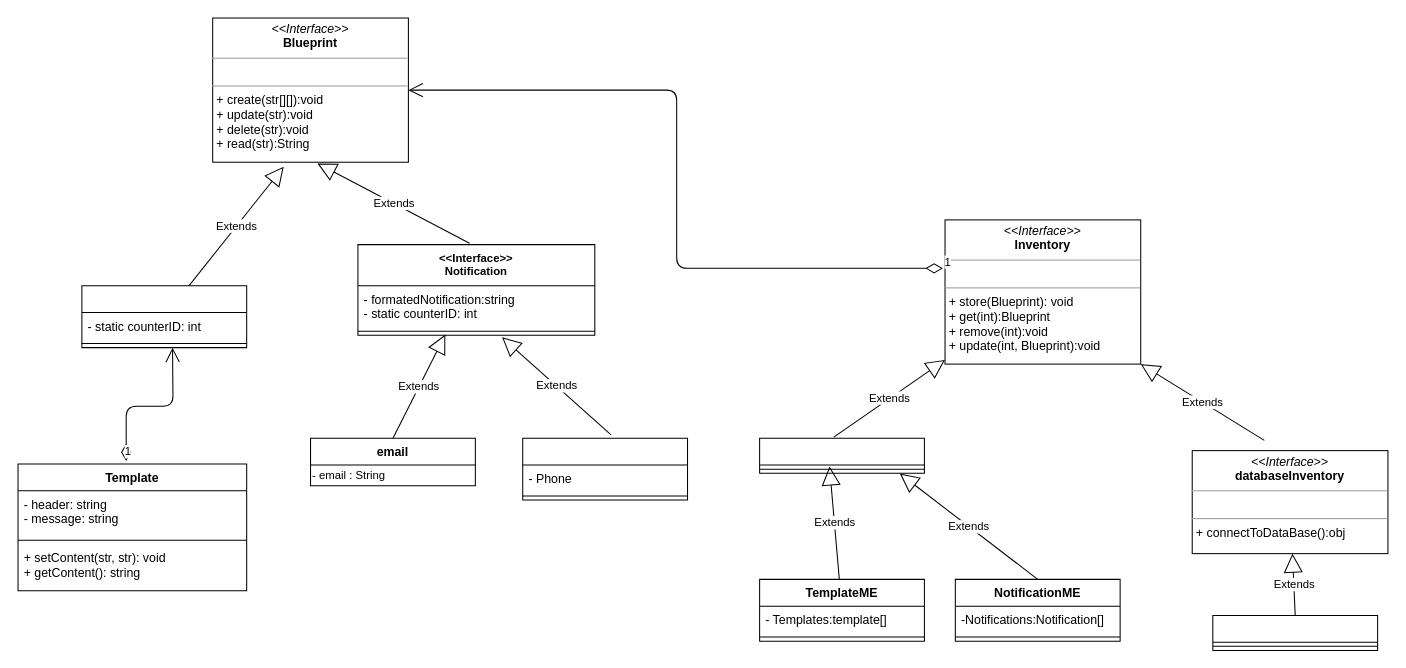
Some shapes in this 1406 by 668 pixel diagram are drawn without their labels. The shapes that lost their labels are listed below. From the top down, each one's box as (x1, y1, x2, y2) in pixels, then its label:
(81, 285, 247, 348): TemplateOperation
(522, 437, 688, 500): SMS
(759, 437, 924, 473): memoryInventory
(1212, 614, 1378, 650): mysqInventory
